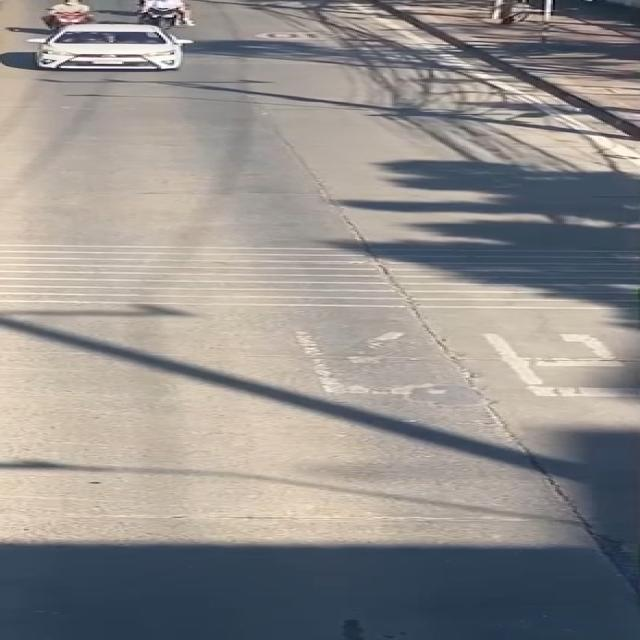car: (22, 22, 205, 73)
